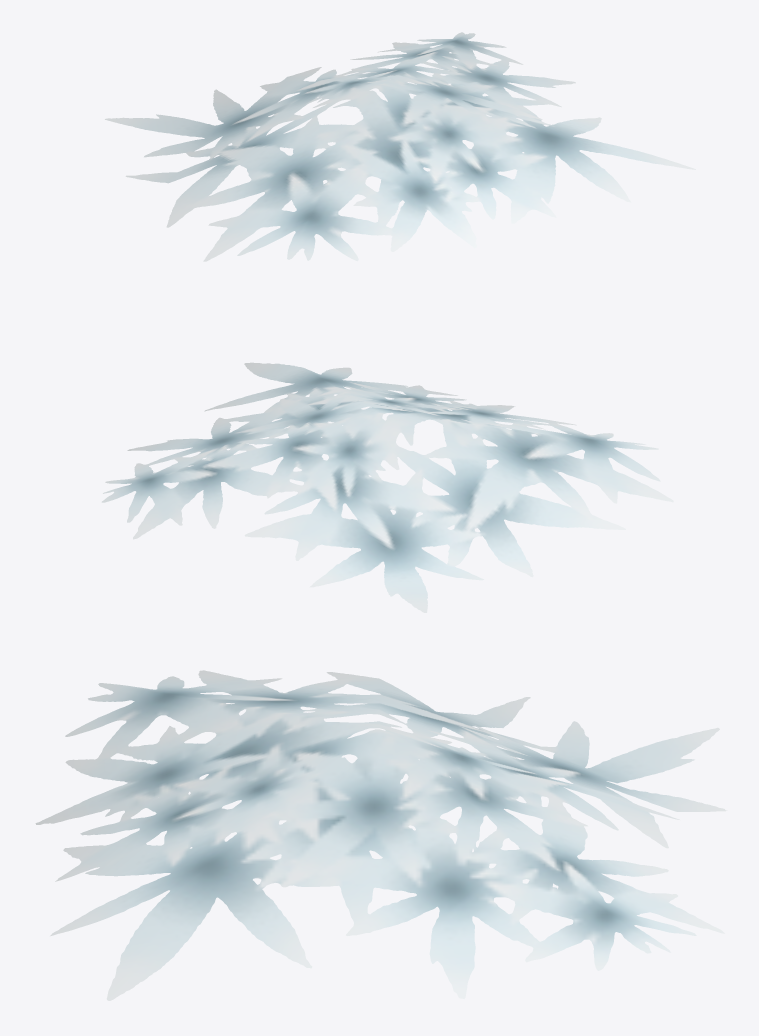
File: SnowGrassLand_Alpha_01_001.FBX
3 views of the same model, one above another, from view 1: azimuth 30°, elevation 25°; view 2: azimuth 150°, elevation 25°; view 3: azimuth 270°, elevation 25° (orthographic). The views are drawn at different scales.
Parts seen in each view (by area): view 1: SnowGrassLand_Alpha_01_001; view 2: SnowGrassLand_Alpha_01_001; view 3: SnowGrassLand_Alpha_01_001.
Boxes of the visible parts, x1=… form: SnowGrassLand_Alpha_01_001: x1=105, y1=32, x2=695, y2=261; SnowGrassLand_Alpha_01_001: x1=101, y1=362, x2=673, y2=612; SnowGrassLand_Alpha_01_001: x1=35, y1=670, x2=727, y2=1000.
Bounding box in the file's own units: 4.36 × 0.6611 × 3.81.
